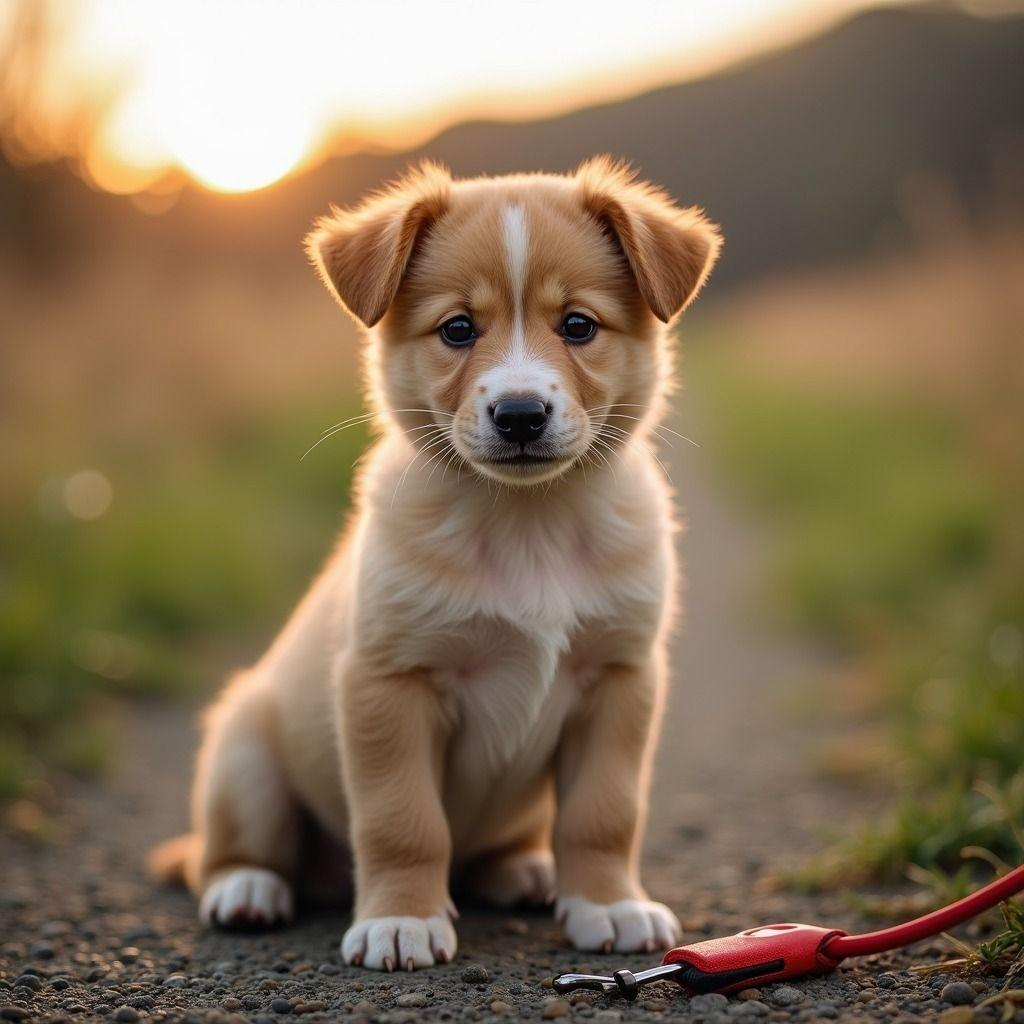puppy-dog: (145, 154, 728, 977)
